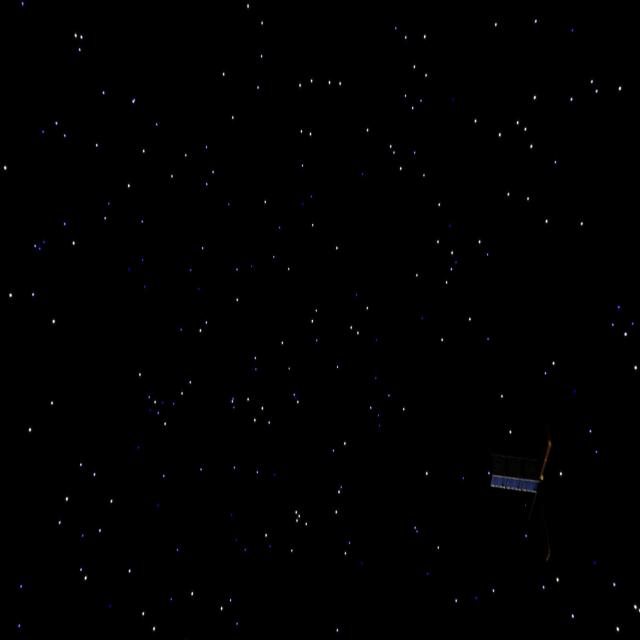satellite: (486, 428, 560, 602)
